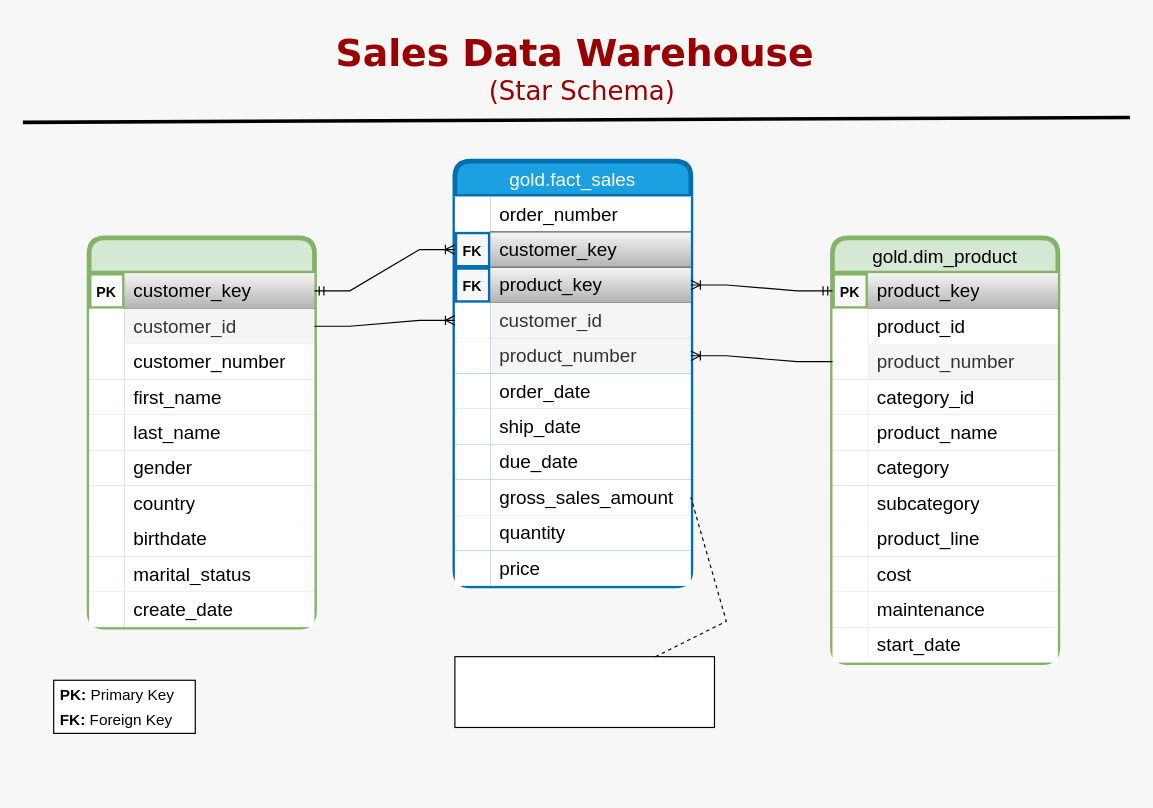
This 1153x808 diagram has some shape labels left out. The box of each missing label's shape, as (x1, y1, x2, y2) in pixels:
gold.dim_customer: (86, 235, 316, 629)
gross_sales_amout = quantity * price: (454, 655, 714, 727)
